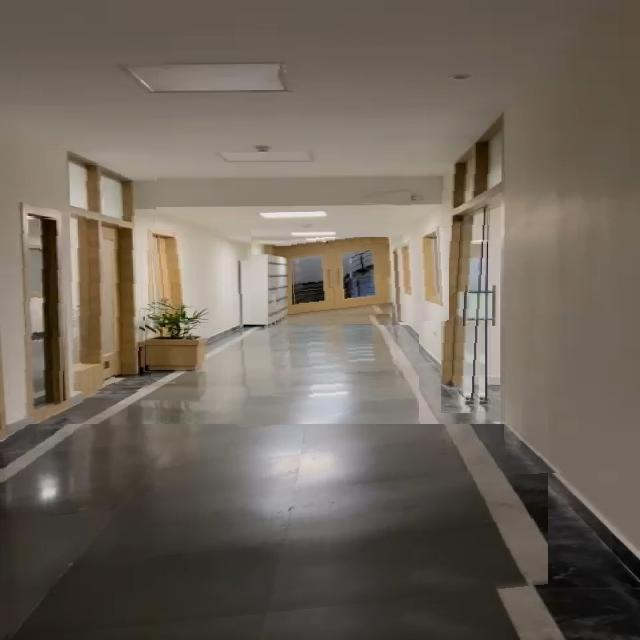door: (70, 163, 157, 391), (441, 165, 492, 413), (11, 216, 68, 417), (291, 238, 405, 324), (150, 231, 187, 314)
floor: (0, 424, 548, 640), (230, 325, 419, 427)
furniture: (145, 311, 206, 371)
wall: (502, 103, 640, 474), (182, 220, 251, 324), (390, 228, 449, 322)
